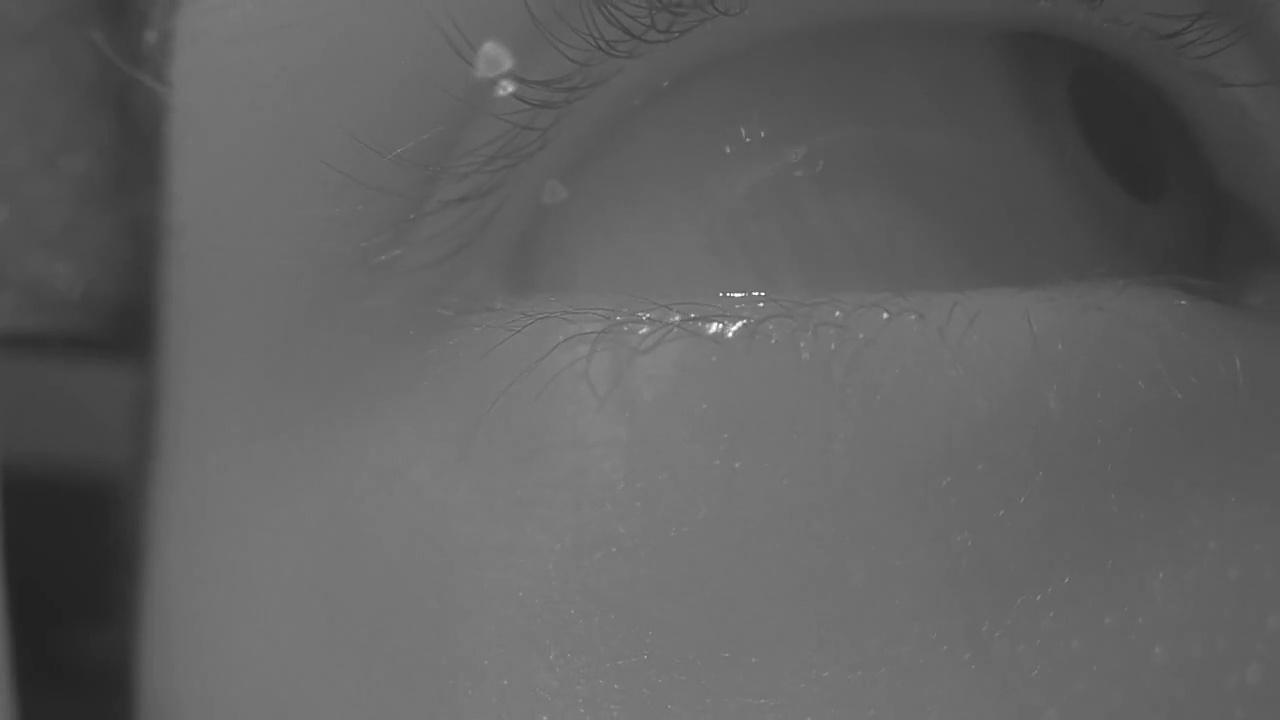pupil: (1068, 62, 1173, 209)
